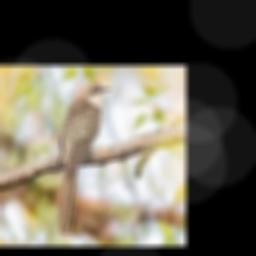Cuckoo: (57, 81, 111, 235)
